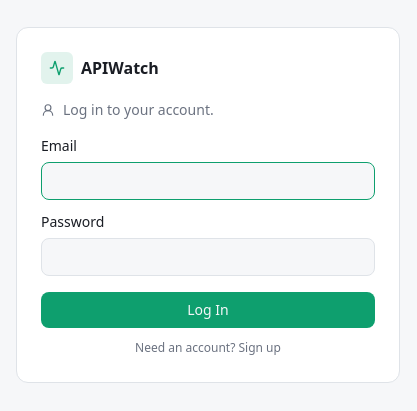
it: AuthGate › toggles to the signup form and back
The width and height of the screenshot is (417, 411).
Step 1. Click the button "Need an account? Sign up" → (208,348), box [41,340,375,356]
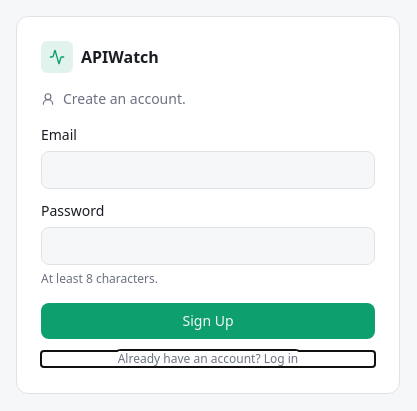
Check: the button "Sign Up" is shown, box [41,303,375,339]
Step 2. Click the button "Already have an account? Log in" → (208,359), box [41,351,375,367]
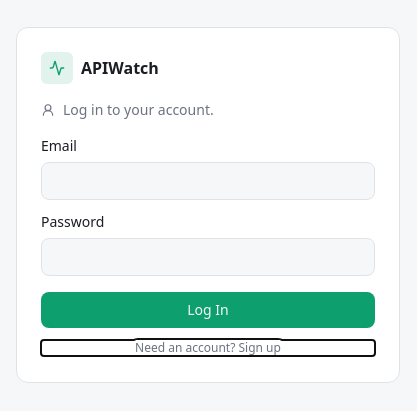
Check: the button "Log In" is shown, box [41,292,375,328]
